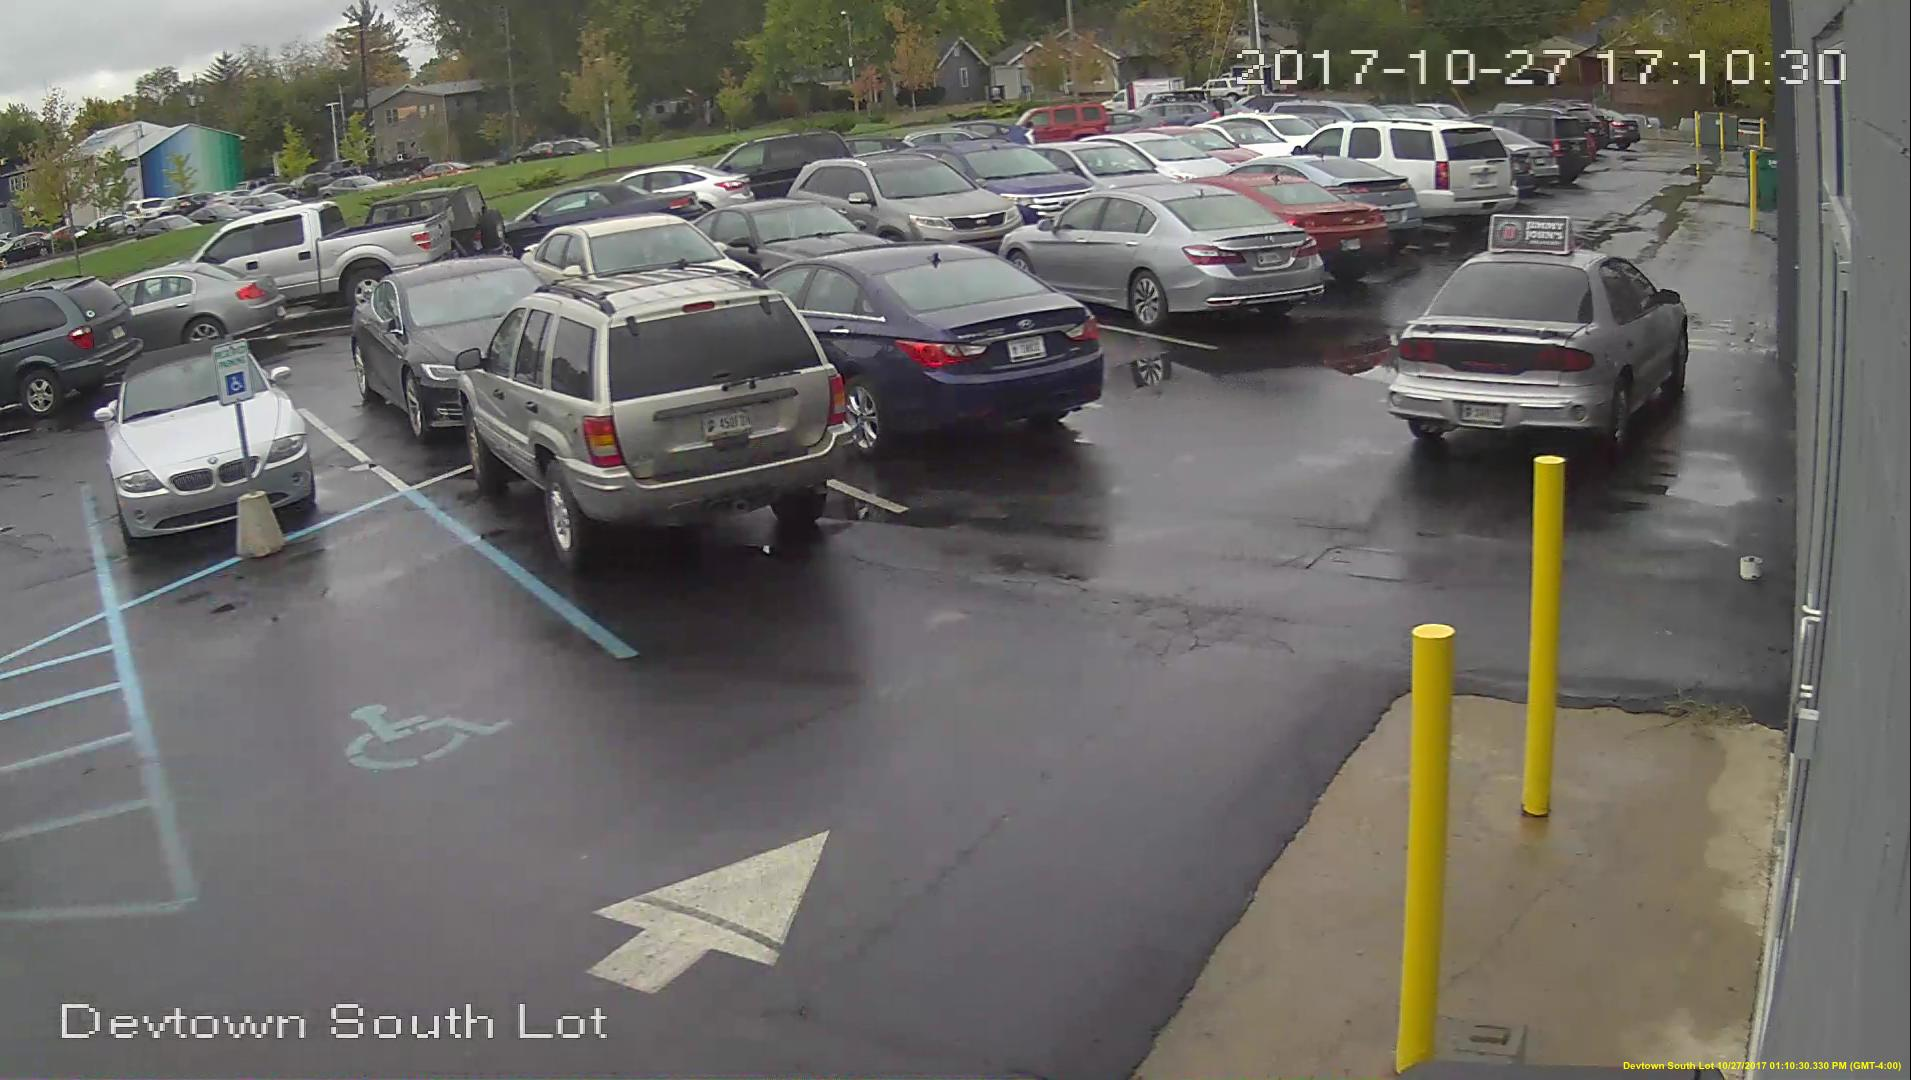jimmy_johns: (1486, 213, 1572, 257)
